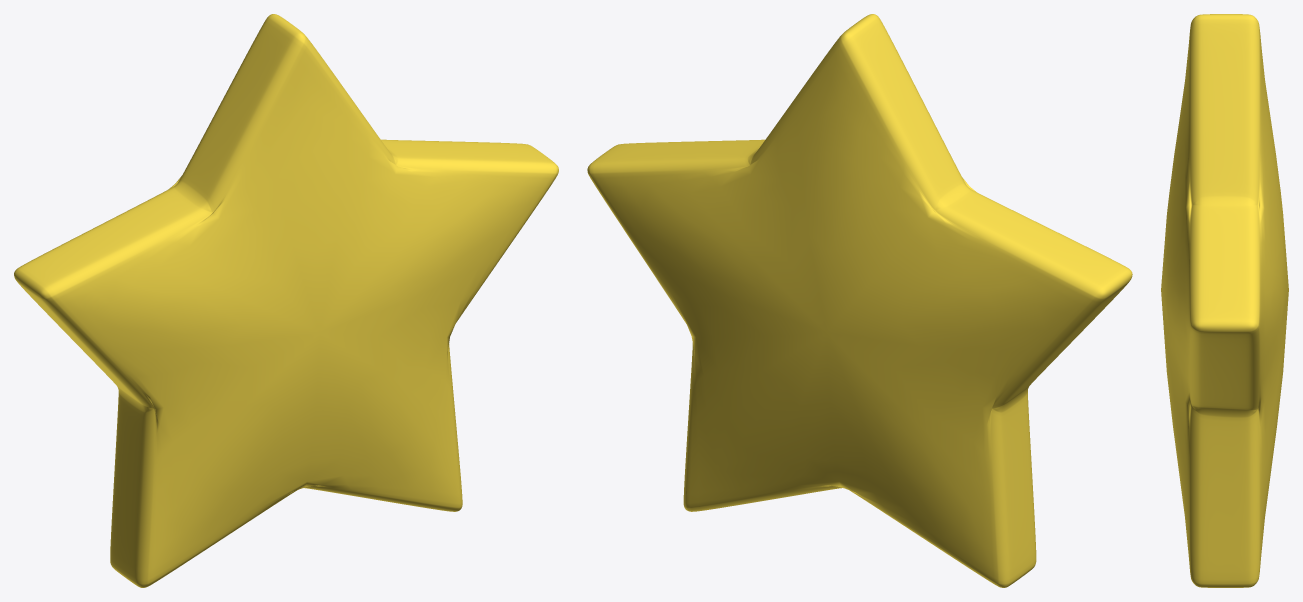
File: mystarv2.glb
3 renders of one model, left to right at view 1: azimuth 30°, elevation 25°; view 2: azimuth 150°, elevation 25°; view 3: azimuth 270°, elevation 25°, orthographic. The views are drawn at different scales.
Parts seen in each view (by area): view 1: Circle; view 2: Circle; view 3: Circle.
Part boxes in pixels (x1=…): Circle: x1=14, y1=14, x2=558, y2=587; Circle: x1=587, y1=14, x2=1132, y2=587; Circle: x1=1161, y1=14, x2=1288, y2=587.
Size of the model in its own units: 1.85 by 1.76 by 0.4089.
